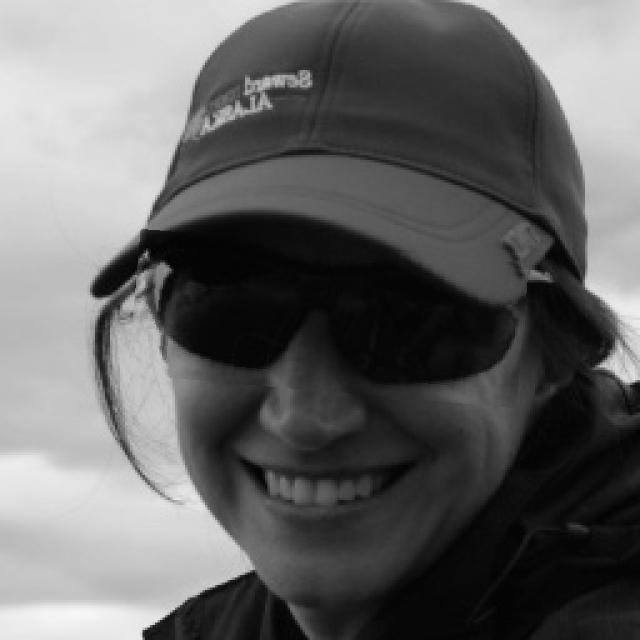glasses: (130, 238, 526, 400)
